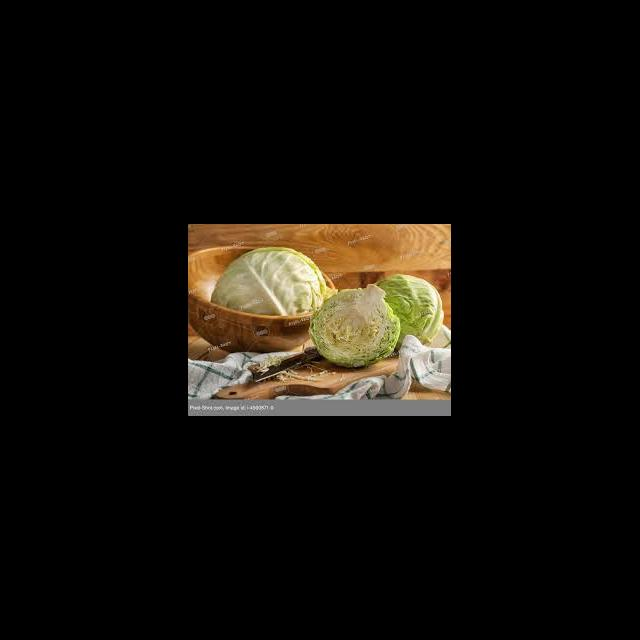cabbage: (212, 240, 332, 321), (313, 280, 401, 367), (372, 269, 451, 351)
